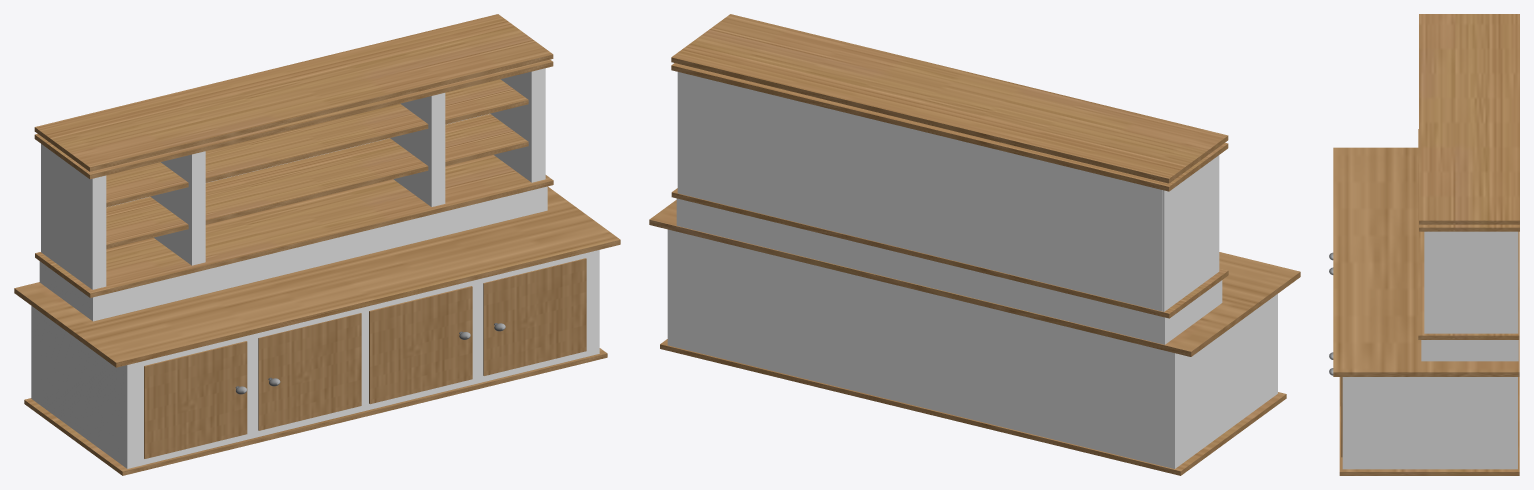
File: Wall Cabinet 1.fbx
The picture shows the model from 3 angles, left to right: view 1: azimuth 30°, elevation 25°; view 2: azimuth 150°, elevation 25°; view 3: azimuth 270°, elevation 25°; orthographic projection. The views are drawn at different scales.
Visible parts, largest first — view 1: Counter; view 2: Counter; view 3: Counter.
Boxes of the visible parts, x1=… form: Counter: x1=14, y1=14, x2=620, y2=475; Counter: x1=649, y1=14, x2=1300, y2=475; Counter: x1=1329, y1=14, x2=1519, y2=475.
Size of the model in its own units: 2.89 by 1.5 by 1.03.
23 materials, 23 textured.
